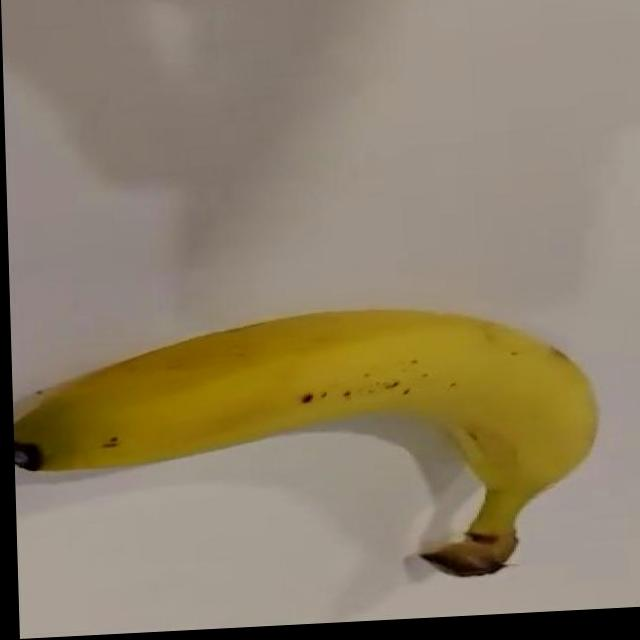Banana: (9, 303, 600, 603)
